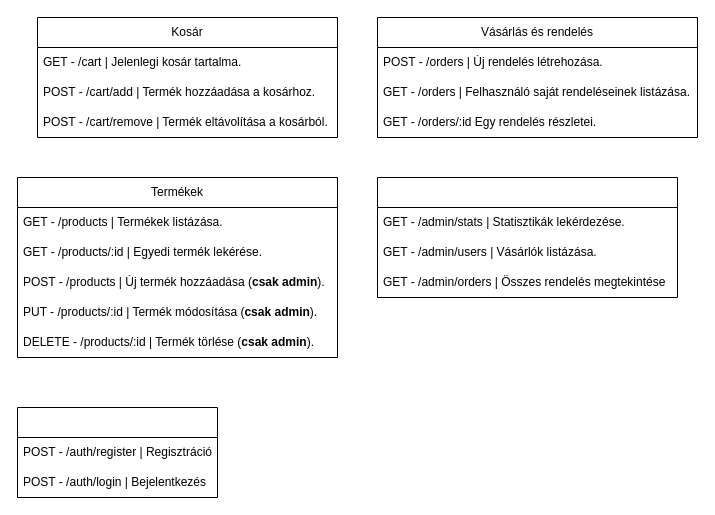
The diagram is 715 pixels wide and 515 high, and some of its shapes have lost their labels. The shapes that lost their labels are listed below. From the top down, each one's box as (x1, y1, x2, y2) in pixels, then its label:
(376, 176, 678, 298): Admin funkciók
(16, 406, 218, 498): Autentikáció
